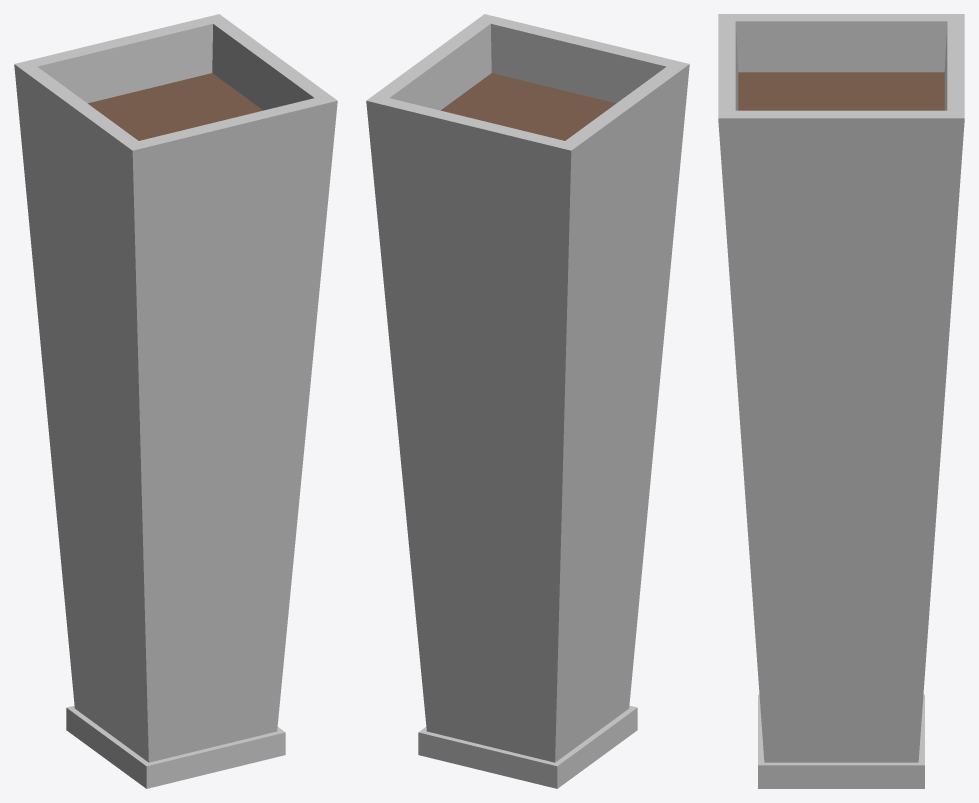
Rendered from LongPlantPotWhite.fbx.
3 views of the same model, side by side, from view 1: azimuth 30°, elevation 25°; view 2: azimuth 150°, elevation 25°; view 3: azimuth 270°, elevation 25° (orthographic). The views are drawn at different scales.
Visible parts, largest first — view 1: pCube82; view 2: pCube82; view 3: pCube82.
Boxes of the visible parts, x1=… form: pCube82: x1=14, y1=14, x2=337, y2=788; pCube82: x1=366, y1=14, x2=689, y2=788; pCube82: x1=718, y1=14, x2=964, y2=788.
Size of the model in its own units: 0.4439 by 1.37 by 0.4439.
